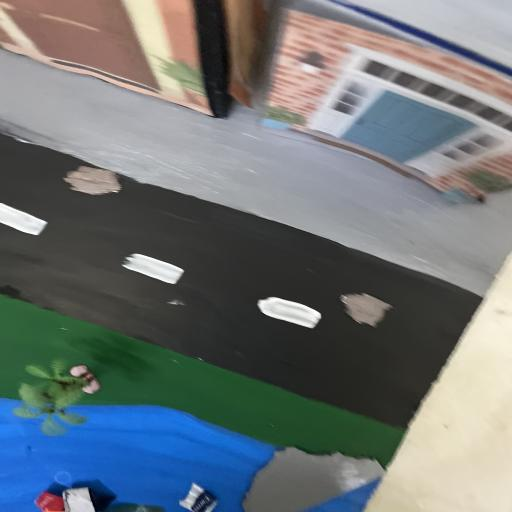encroachment: (241, 443, 387, 512)
porthole: (58, 161, 124, 198), (336, 291, 392, 327)
trash: (35, 481, 224, 512)
